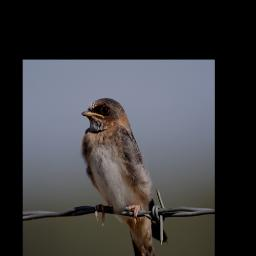Swallow: (80, 95, 168, 256)
